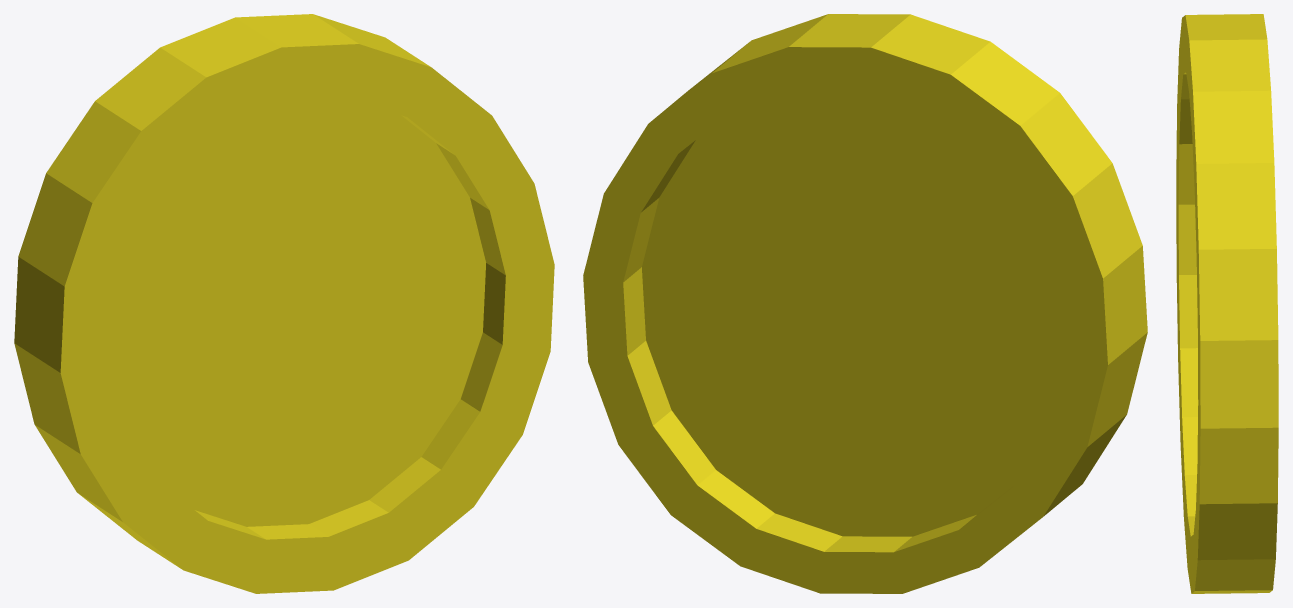
3 views of the same model, side by side, from view 1: azimuth 30°, elevation 25°; view 2: azimuth 150°, elevation 25°; view 3: azimuth 270°, elevation 25° (orthographic). The views are drawn at different scales.
Visible parts, largest first — view 1: CylinderAS; view 2: CylinderAS; view 3: CylinderAS.
Boxes of the visible parts, bbox=[...] form: CylinderAS: bbox=[14, 14, 554, 593]; CylinderAS: bbox=[583, 14, 1147, 593]; CylinderAS: bbox=[1176, 14, 1278, 593].
Bounding box in the file's own units: 183 × 190 × 34.9.
